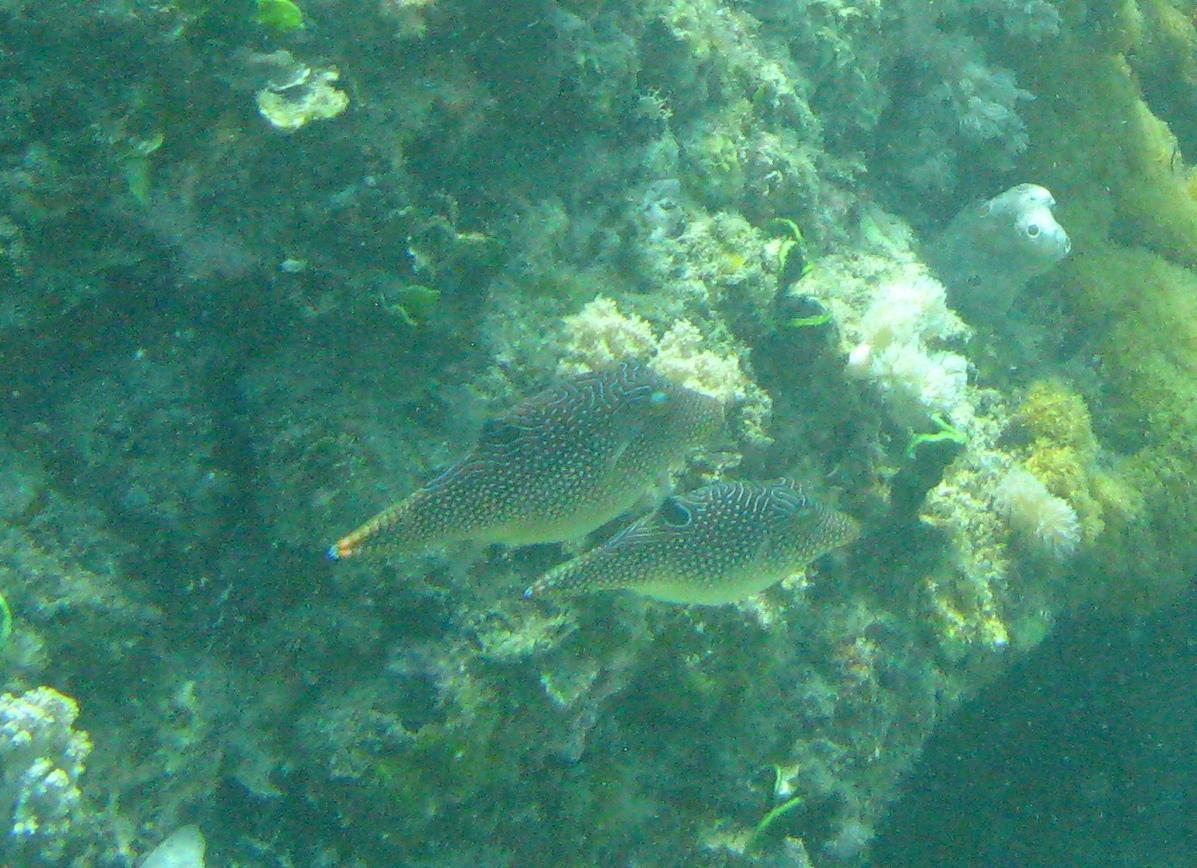Fish: (228, 319, 751, 554), (528, 471, 868, 639)
